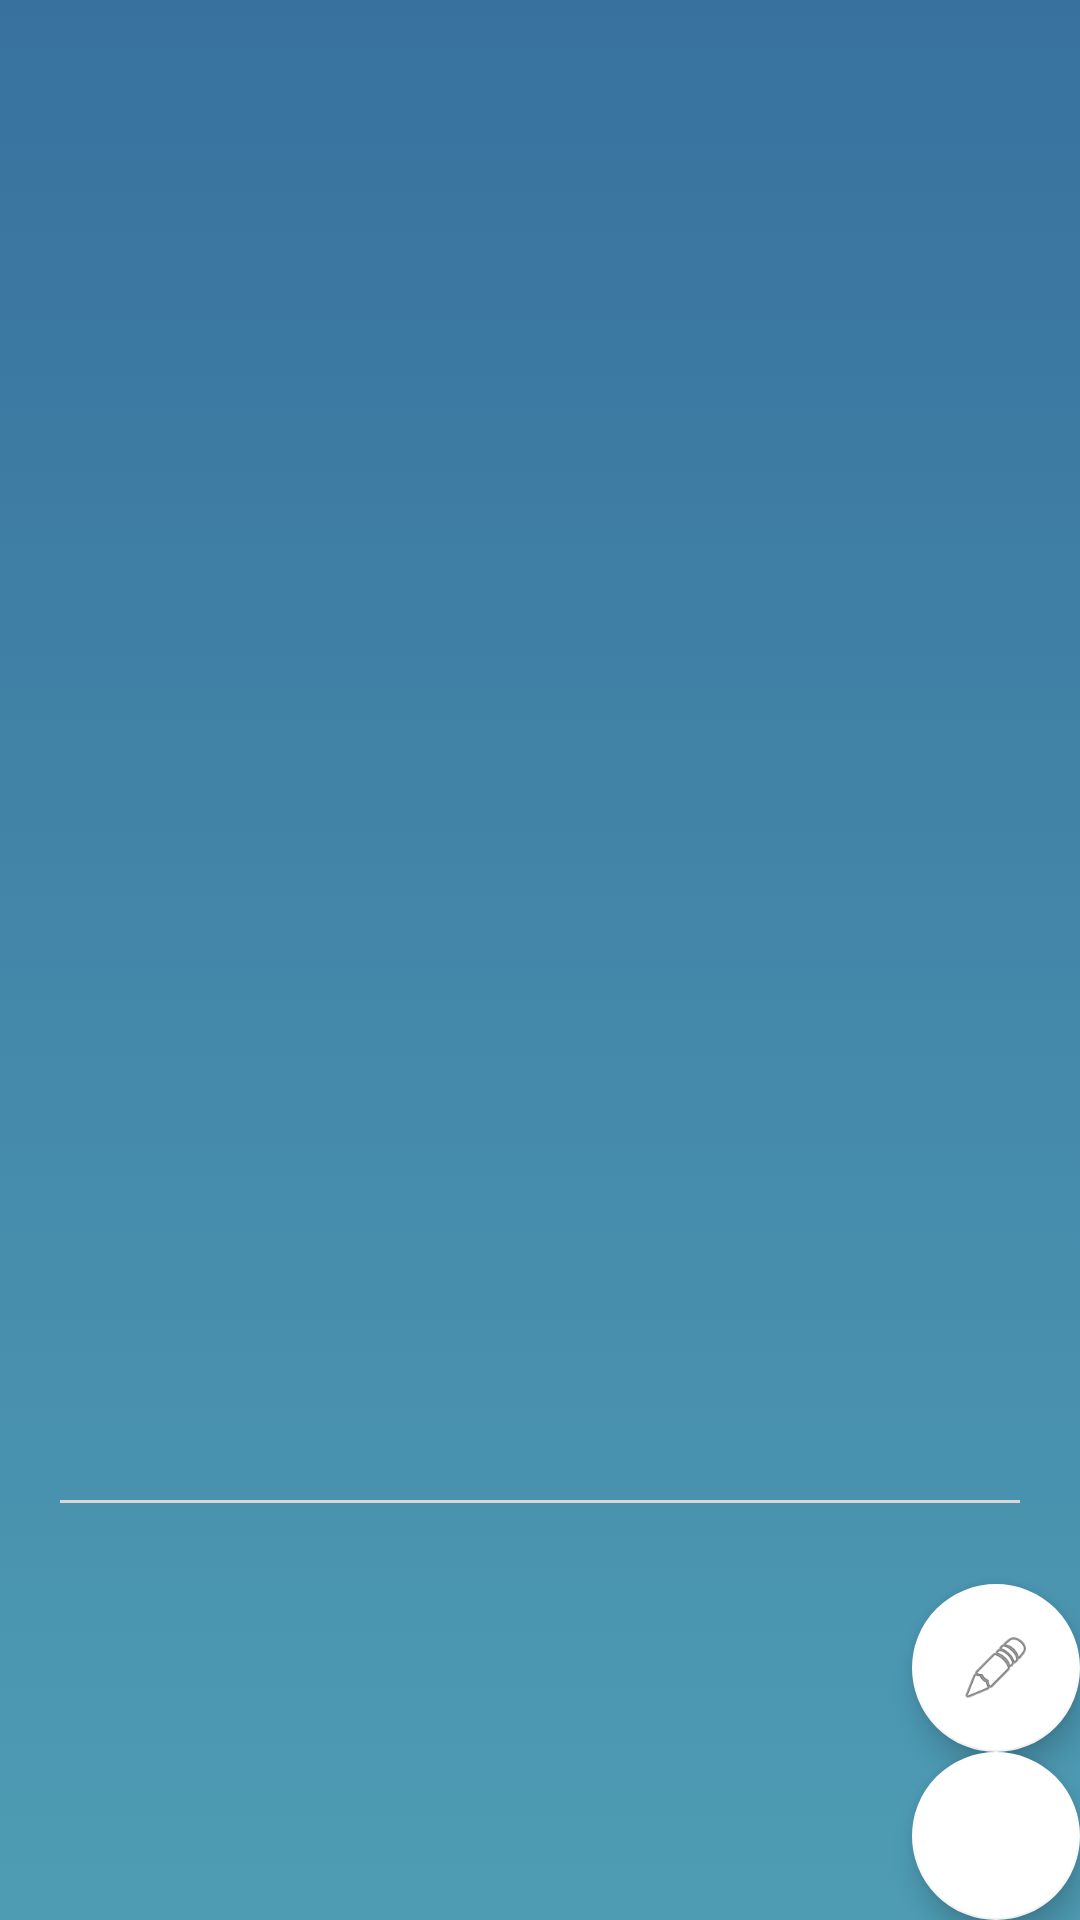

Icon click points for this 1080 × 1920 phone screenshot, format point (x, y):
edit: point (996, 1668)
